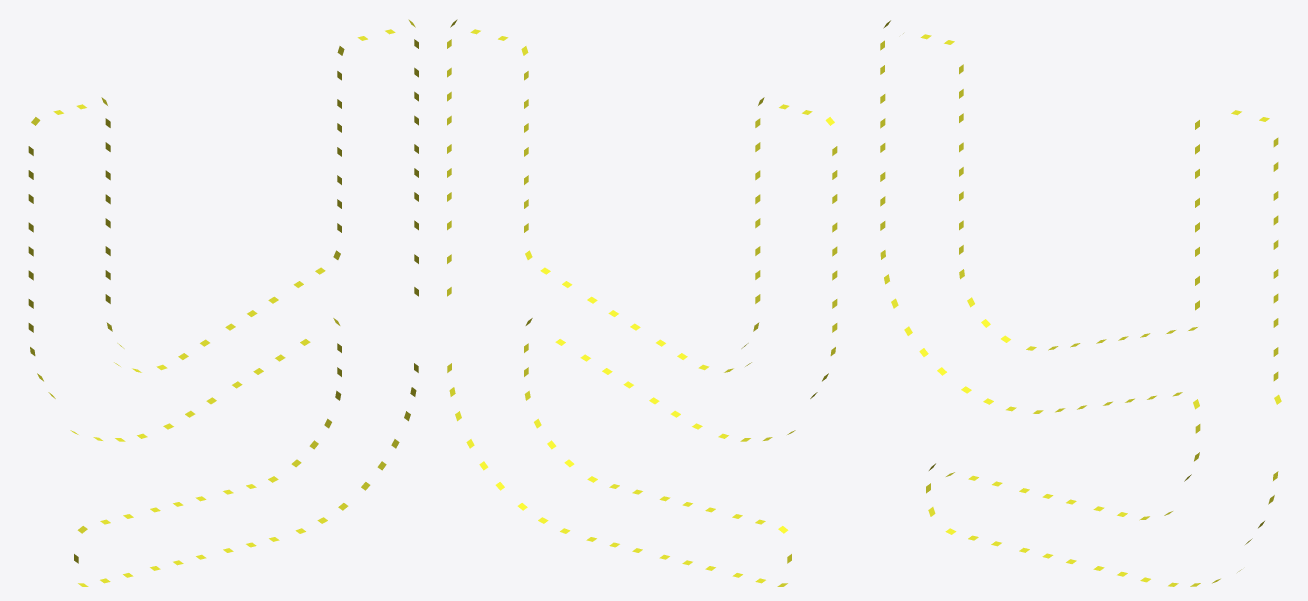
The model's file is LED.glb.
3 views of the same model, side by side, from view 1: azimuth 30°, elevation 25°; view 2: azimuth 150°, elevation 25°; view 3: azimuth 330°, elevation 25° (orthographic). The views are drawn at different scales.
Visible parts, largest first — view 1: LED; view 2: LED; view 3: LED.
Boxes of the visible parts, x1=… form: LED: x1=28, y1=19, x2=418, y2=586; LED: x1=447, y1=19, x2=837, y2=586; LED: x1=880, y1=20, x2=1281, y2=586.
Size of the model in its own units: 42.81 by 50.62 by 0.8861.
